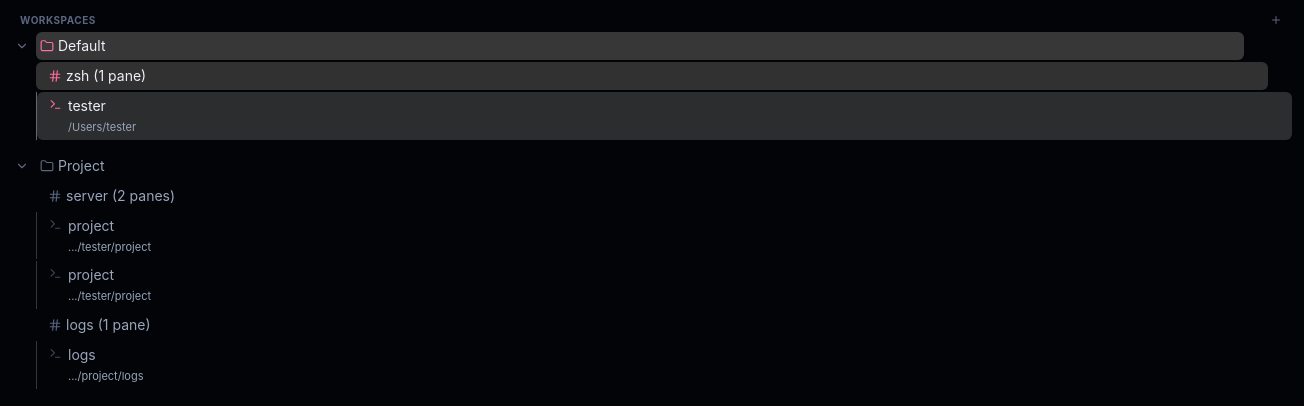
Test case: WorkspacesView › keeps the active workspace indicator when the active workspace is collapsed
// the user collapses the active workspace.
Step 1. Click the button named "Collapse Default" → [22, 46], box [12,36,32,56]
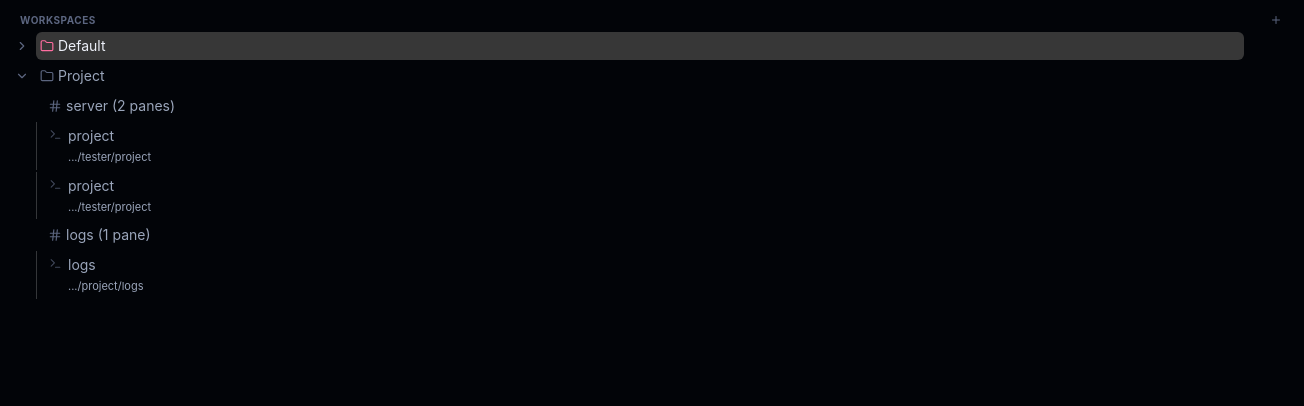
expect the button "zsh (1 pane)" is gone: met
